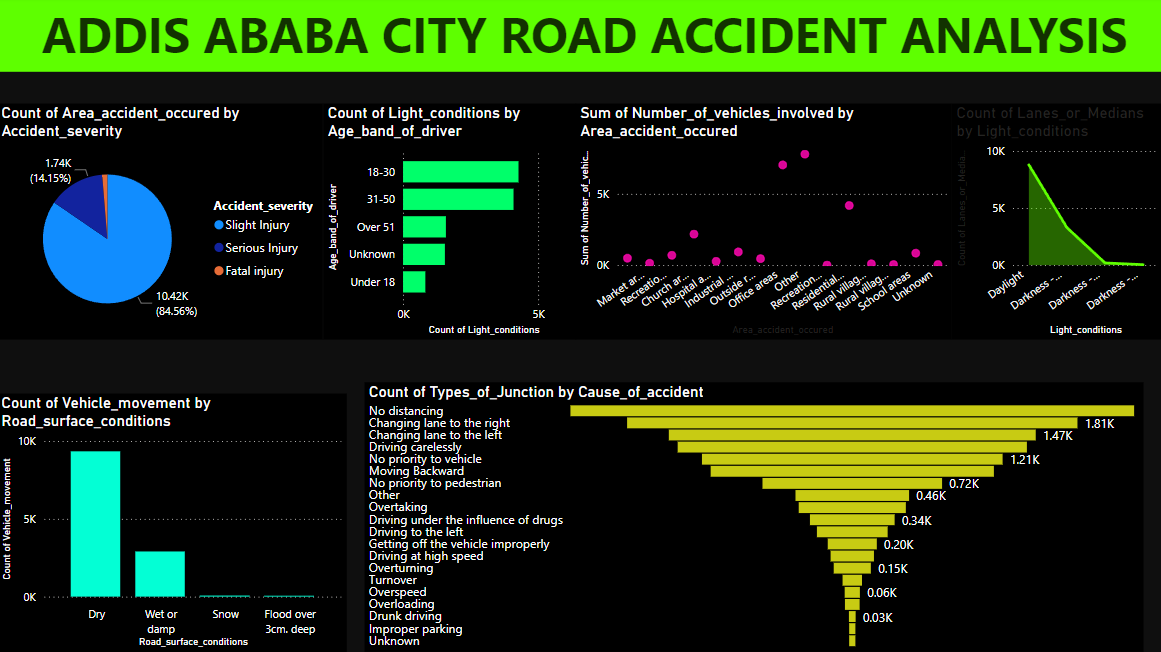

Layout of this report page (visuals, bound fields, positions):
{"tool":"powerbi","page":{"name":"Page 1","canvas":[1280,720],"ordinal":0},"visuals":[{"type":"pieChart","fields":{"Category":["RTA Dataset.Accident_severity"],"Y":["CountNonNull(RTA Dataset.Area_accident_occured)"]},"box":[0,118.2,357.7,259.4],"z":0},{"type":"columnChart","fields":{"Y":["CountNonNull(RTA Dataset.Vehicle_movement)"],"Category":["RTA Dataset.Road_surface_conditions"]},"box":[0,436,383.8,284],"z":1000},{"type":"clusteredBarChart","fields":{"Y":["CountNonNull(RTA Dataset.Light_conditions)"],"Category":["RTA Dataset.Age_band_of_driver"]},"box":[357.7,118.2,277.9,259.4],"z":2000},{"type":"scatterChart","fields":{"X":["RTA Dataset.Area_accident_occured"],"Y":["Sum(RTA Dataset.Number_of_vehicles_involved)"]},"box":[635.6,118.2,413,259.4],"z":2001},{"type":"funnel","fields":{"Category":["RTA Dataset.Cause_of_accident"],"Y":["CountNonNull(RTA Dataset.Types_of_Junction)"]},"box":[403.7,423.7,855.1,296.3],"z":2002},{"type":"areaChart","fields":{"Category":["RTA Dataset.Light_conditions"],"Y":["CountNonNull(RTA Dataset.Lanes_or_Medians)"]},"box":[1048.5,118.2,231.8,259.4],"z":2003},{"type":"textbox","box":[0,0,1280.3,82.9],"z":2004}]}

Visuals, with their boxes in screenshot pixels (x1, y1, x2, y2), scaled from the page's 1280x720 canvas onto the 1161x652 screenshot:
pieChart - RTA Dataset.Accident_severity x CountNonNull(RTA Dataset.Area_accident_occured): [0, 107, 324, 342]
columnChart - CountNonNull(RTA Dataset.Vehicle_movement) x RTA Dataset.Road_surface_conditions: [0, 395, 348, 651]
clusteredBarChart - CountNonNull(RTA Dataset.Light_conditions) x RTA Dataset.Age_band_of_driver: [324, 107, 577, 342]
scatterChart - RTA Dataset.Area_accident_occured x Sum(RTA Dataset.Number_of_vehicles_involved): [577, 107, 951, 342]
funnel - RTA Dataset.Cause_of_accident x CountNonNull(RTA Dataset.Types_of_Junction): [366, 384, 1142, 651]
areaChart - RTA Dataset.Light_conditions x CountNonNull(RTA Dataset.Lanes_or_Medians): [951, 107, 1160, 342]
textbox: [0, 0, 1160, 75]
